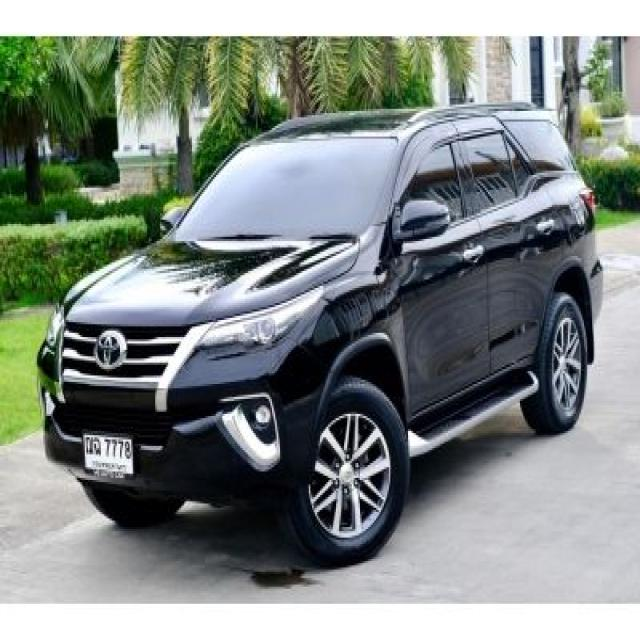light_vehicle: (33, 101, 604, 568)
